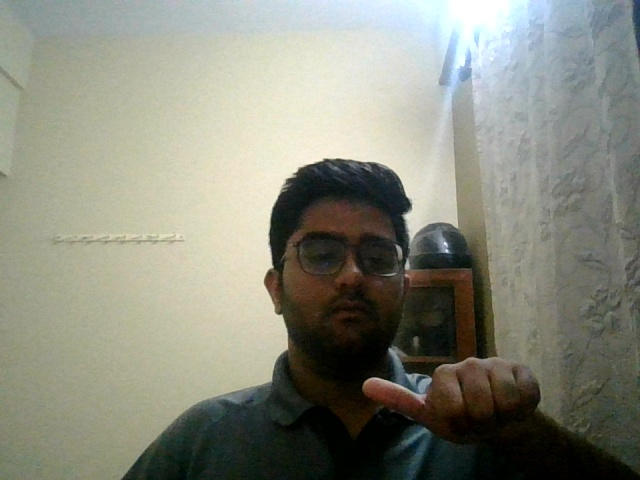Yes: (350, 338, 604, 476)
